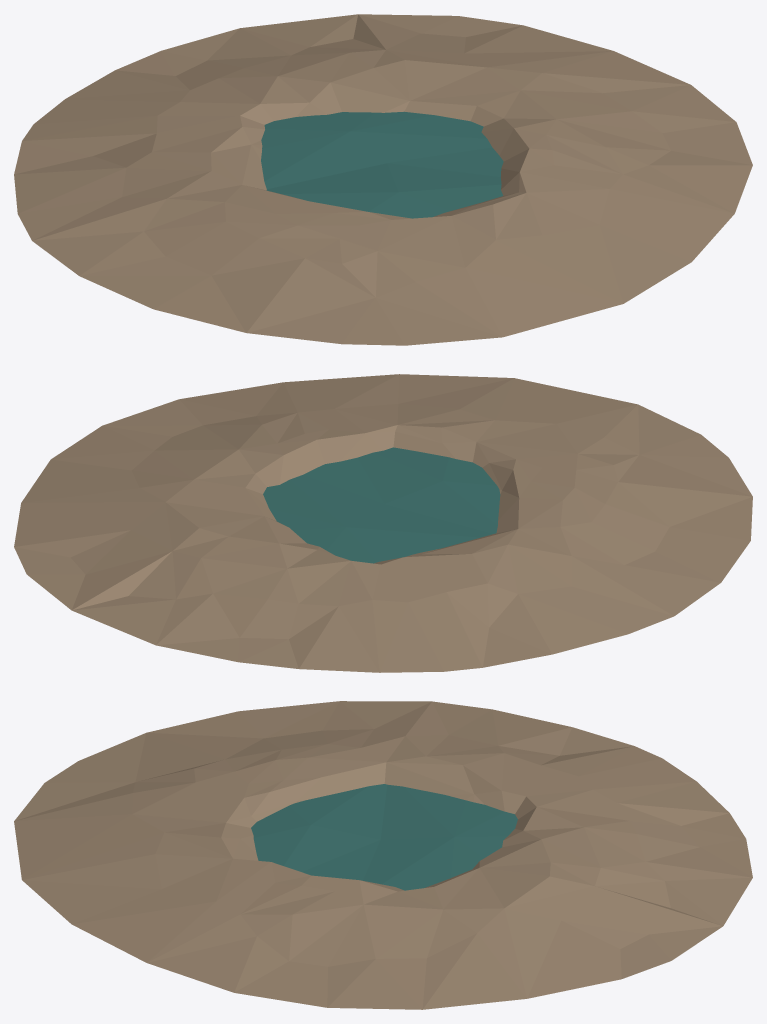
Rendered from SM_Env_Ground_Oasis_01.fbx.
3 renders of one model, top to bottom at view 1: azimuth 30°, elevation 25°; view 2: azimuth 150°, elevation 25°; view 3: azimuth 270°, elevation 25°, orthographic. The views are drawn at different scales.
Visible parts, largest first — view 1: SM_Env_Ground_Oasis_01, SM_Env_Ground_Oasis_Water_01; view 2: SM_Env_Ground_Oasis_01, SM_Env_Ground_Oasis_Water_01; view 3: SM_Env_Ground_Oasis_01, SM_Env_Ground_Oasis_Water_01.
Part boxes in pixels (x1,y1,x2,y2): SM_Env_Ground_Oasis_01: (14, 14, 752, 345); SM_Env_Ground_Oasis_Water_01: (261, 111, 503, 218); SM_Env_Ground_Oasis_01: (14, 374, 752, 672); SM_Env_Ground_Oasis_Water_01: (263, 447, 500, 563); SM_Env_Ground_Oasis_01: (14, 701, 752, 1009); SM_Env_Ground_Oasis_Water_01: (251, 784, 517, 890).
Size of the model in its own units: 2889 by 135 by 2923.
